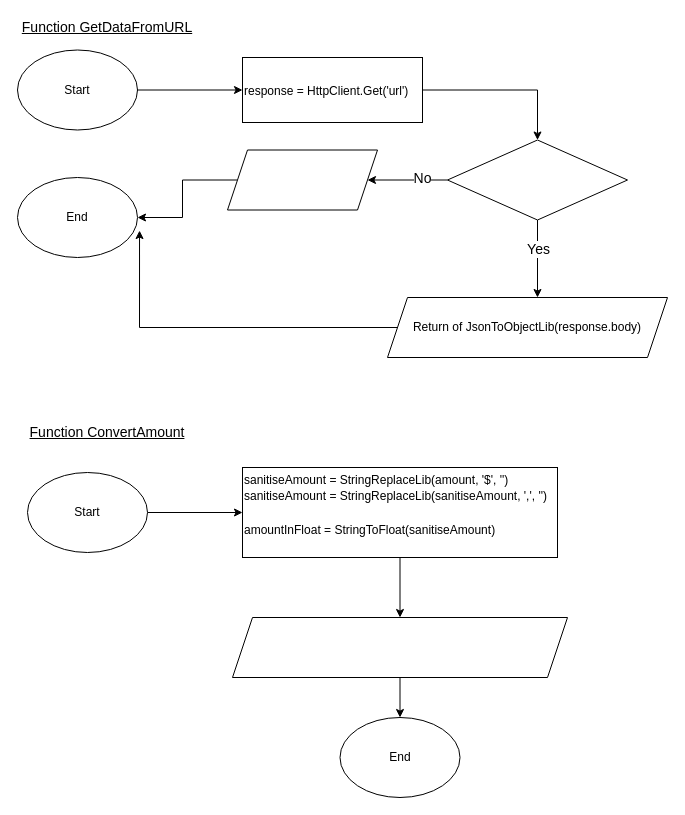
This 685x815 diagram has some shape labels left out. The shapes that lost their labels are listed below. From the top down, each one's box as (x1, y1, x2, y2) in pixels, then its label:
(226, 149, 378, 210): Return null
(446, 139, 628, 220): response.status == 200
(232, 616, 568, 678): Return of CastingToInteger(MathRound(amountInFloat))
